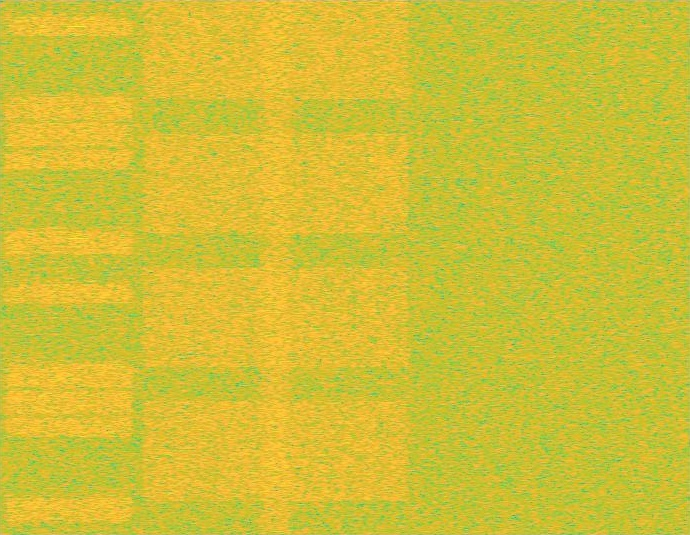5G: (138, 0, 414, 534)
DSSS: (257, 0, 295, 534)
LTE: (0, 0, 138, 534)
Radar: (70, 0, 84, 534)
